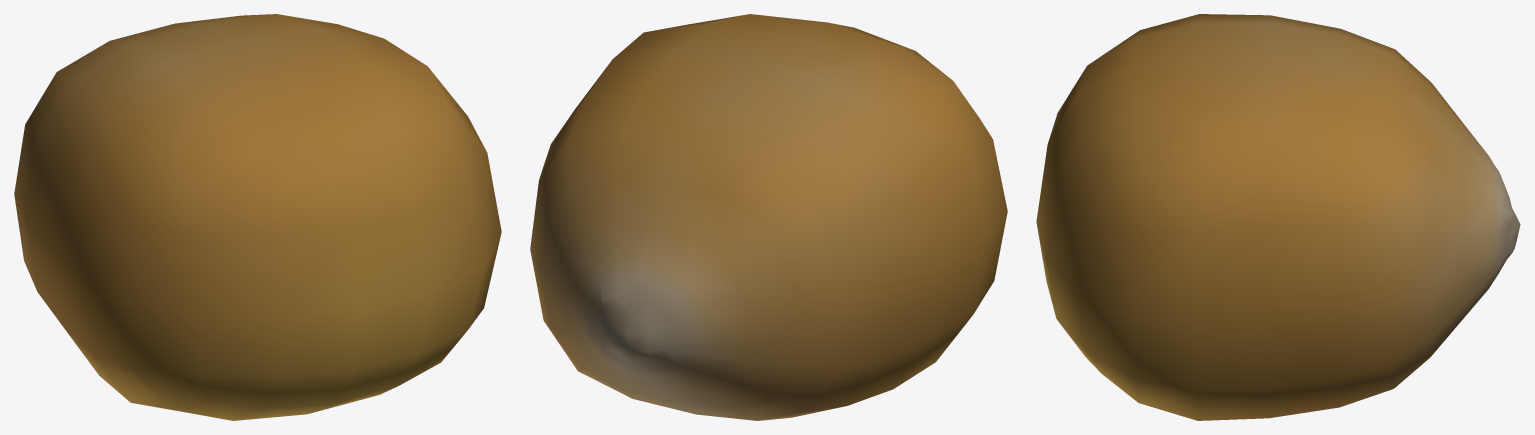
The model's file is trees-seeds-nuts-dried-pea_v1.glb.
3 renders of one model, left to right at view 1: azimuth 30°, elevation 25°; view 2: azimuth 150°, elevation 25°; view 3: azimuth 270°, elevation 25°, orthographic. The views are drawn at different scales.
Visible parts, largest first — view 1: Dried Pea_v1; view 2: Dried Pea_v1; view 3: Dried Pea_v1.
Boxes of the visible parts, x1=… form: Dried Pea_v1: x1=14, y1=14, x2=501, y2=420; Dried Pea_v1: x1=530, y1=14, x2=1007, y2=420; Dried Pea_v1: x1=1036, y1=14, x2=1520, y2=420.
Bounding box in the file's own units: 0.7197 × 0.5773 × 0.8.
